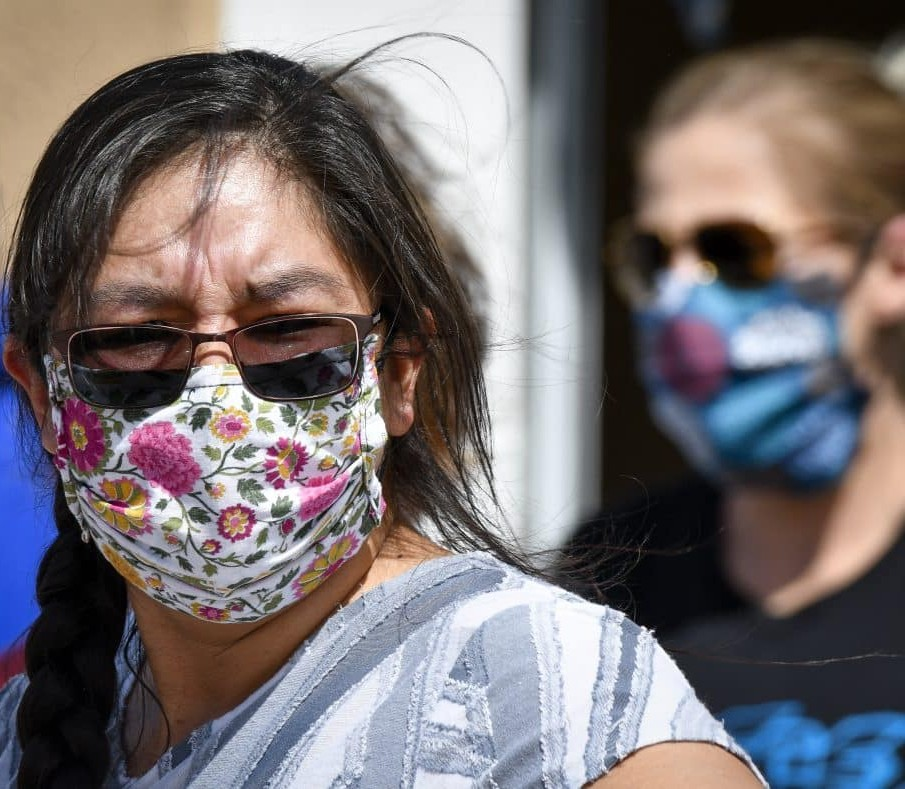with_mask: (13, 152, 428, 627), (628, 109, 905, 499)
